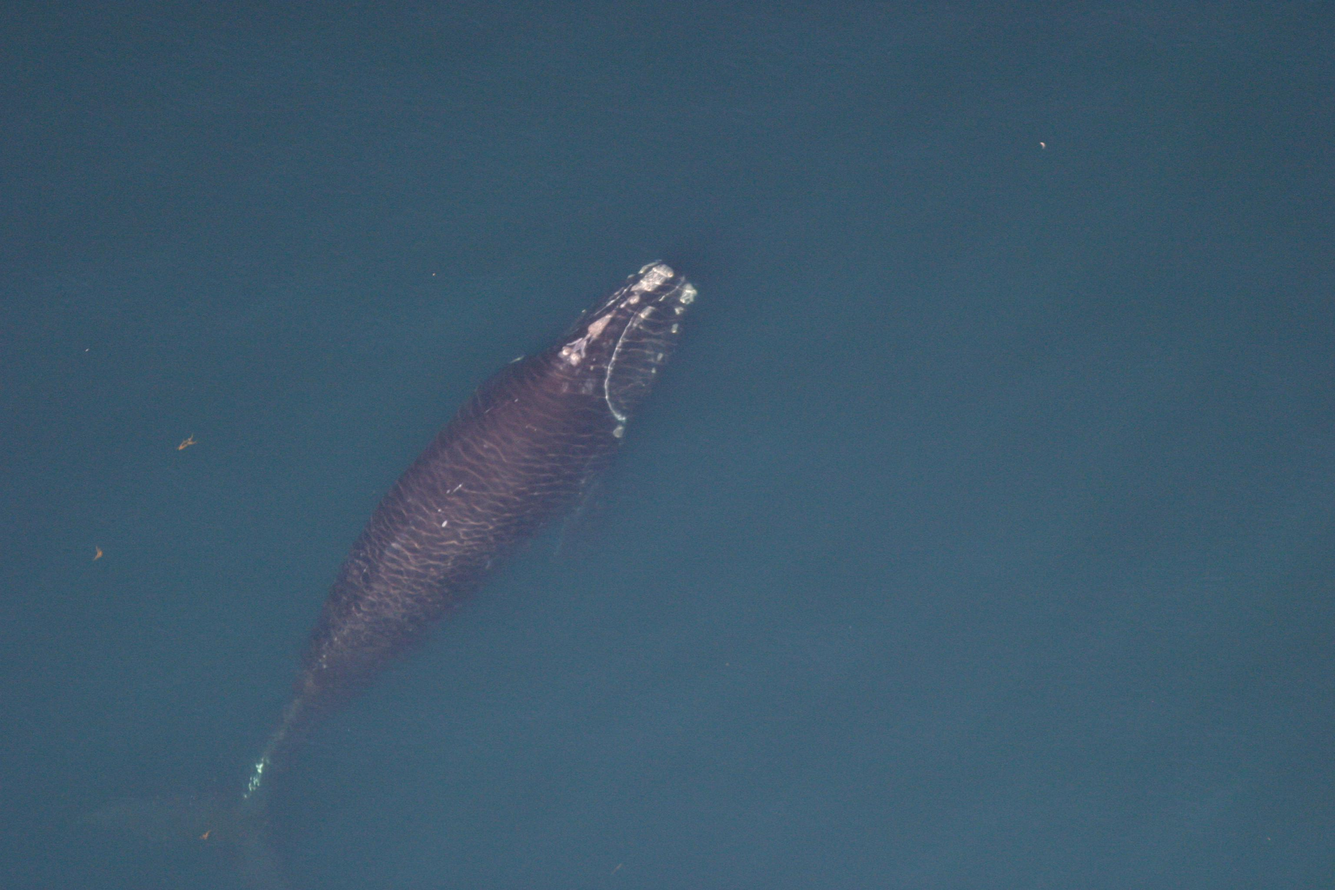whale: (65, 254, 701, 890)
